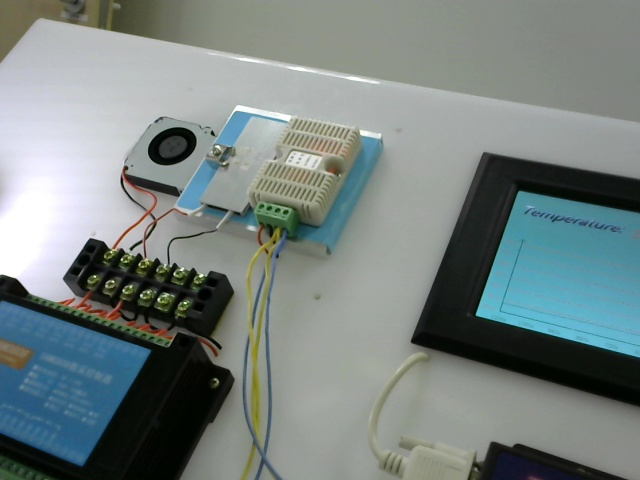fan: (120, 110, 202, 197)
